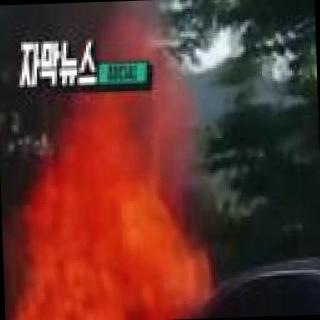fire: (19, 118, 179, 320)
